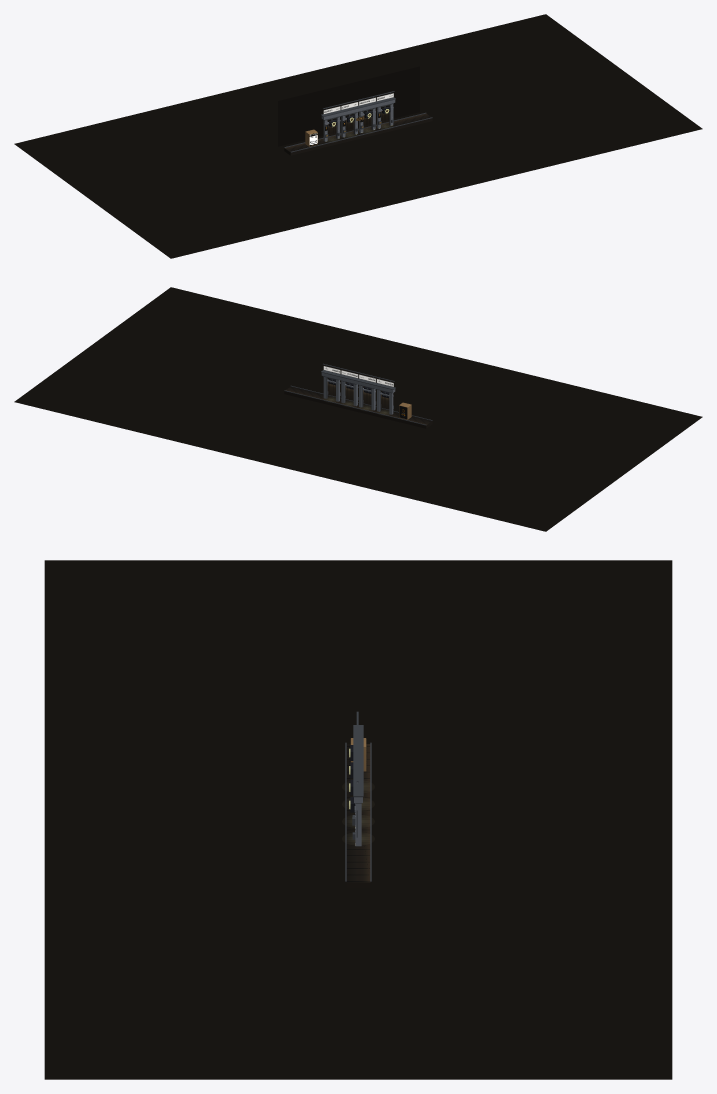
The picture shows the model from 3 angles, top to bottom: view 1: azimuth 30°, elevation 25°; view 2: azimuth 150°, elevation 25°; view 3: azimuth 270°, elevation 25°; orthographic projection. The views are drawn at different scales.
Visible parts, largest first — view 1: HallFloor, BackWall, BeltSurface, Belt-mesh-2; view 2: HallFloor, BeltSurface, Belt-mesh-2; view 3: HallFloor, BeltSurface.
Part boxes in pixels (left/top/right/bottom): HallFloor: left=14, top=14, right=702, bottom=258; BackWall: left=278, top=66, right=419, bottom=146; BeltSurface: left=285, top=113, right=431, bottom=152; Belt-mesh-2: left=284, top=118, right=432, bottom=155; HallFloor: left=14, top=287, right=702, bottom=531; BeltSurface: left=285, top=386, right=431, bottom=425; Belt-mesh-2: left=284, top=391, right=432, bottom=428; HallFloor: left=44, top=560, right=672, bottom=1079; BeltSurface: left=346, top=744, right=370, bottom=882.
Size of what is drawn, in the model's own units: 90 by 8 by 46.
277 materials, 72 textured.
